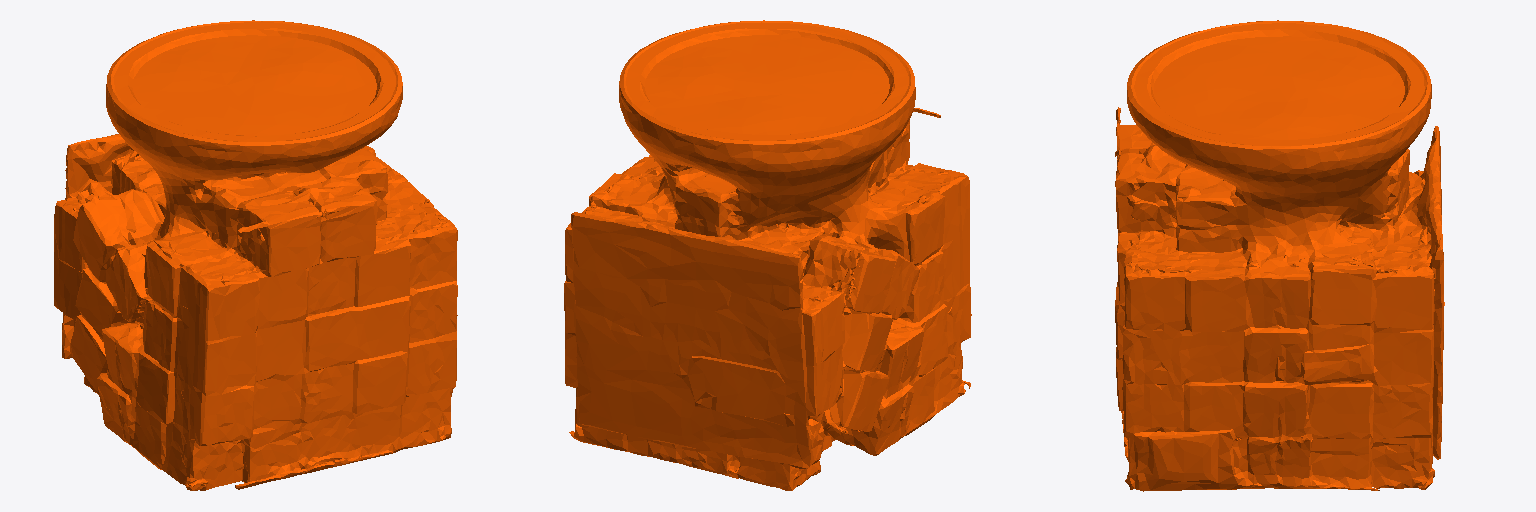
URDF robot description (070-a_colored_wood_blocks):
<?xml version="1.0" ?>
<robot name="070-a_colored_wood_blocks">
   <material name="obj_color">
      <color rgba="1.0 0.423529411765 0.0392156862745 1.0"/>
   </material>
   <link name="top">
      <inertial>
         <origin rpy="0.01209886757479972 0.01464237441496988 0.01520938627750228" xyz="0.006750575462909925 -0.001177174618853971 0.004188622996180038"/>
         <mass value="4.598820042393624"/>
         <inertia ixx="0.01515234332145368" ixy="-0.0001632659932999344" ixz="0.0001353667889838855" iyy="0.01469316169098673" iyz="1.841889491255326e-05" izz="0.01210512325483147"/>
      </inertial>
      <visual>
         <origin rpy="0 0 0" xyz="0 0 0"/>
         <geometry>
            <mesh filename="top_watertight_tiny.stl" scale="1 1 1"/>
         </geometry>
         <material name="obj_color"/>
      </visual>
      <collision>
         <origin rpy="0 0 0" xyz="0 0 0"/>
         <geometry>
            <mesh filename="top_watertight_tiny.obj" scale="1 1 1"/>
         </geometry>
      </collision>
   </link>
   <link name="bottom">
      <inertial>
         <origin rpy="1.633333333199431e-08 1.633333333199431e-08 1.633333333362855e-08" xyz="0.3464080000000008 0.3464080000000008 0.3464080000000008"/>
         <mass value="0.0009800000000000017"/>
         <inertia ixx="1.633333333253906e-08" ixy="5.447480642029219e-19" ixz="5.447480642029219e-19" iyy="1.633333333253906e-08" iyz="5.447480642029219e-19" izz="1.633333333253906e-08"/>
      </inertial>
      <visual>
         <origin rpy="0 0 0" xyz="0 0 0"/>
         <geometry>
            <mesh filename="bottom_watertight_tiny.stl" scale="1 1 1"/>
         </geometry>
         <material name="obj_color"/>
      </visual>
   </link>
   <link name="world"/>
   <joint name="world_to_base" type="fixed">
      <origin xyz="0 0 0"/>
      <axis xyz="0 0 0"/>
      <parent link="world"/>
      <child link="bottom"/>
   </joint>
   <joint name="rotation" type="revolute">
      <origin xyz="0 0 0"/>
      <axis xyz="0 0 -1"/>
      <parent link="bottom"/>
      <child link="top"/>
      <dynamics damping="1.0" friction="1.0"/>
      <limit effort="0.1" velocity="0.1" lower="0" upper="0.001"/>
   </joint>
</robot>

--- Render facts (derived) ---
The picture shows the robot from 3 angles, left to right: view 1: azimuth 30°, elevation 25°; view 2: azimuth 150°, elevation 25°; view 3: azimuth 270°, elevation 25°; orthographic projection.
Robot: 070-a_colored_wood_blocks — 3 links, 2 joints (1 revolute, 1 fixed); root link world; default pose: every joint at zero.
Visible links, largest first — view 1: top; view 2: top; view 3: top.
Link boxes in pixels (x1,y1,x2,y2): top: (54,20,457,490); top: (564,20,971,490); top: (1115,20,1444,491).
Bounding box of the posed robot: 0.1421 × 0.1412 × 0.1654 m (x, y, z).
Meshes: 2 distinct files referenced, 1 mesh visuals loaded (1 binary STL); not drawn: 1 (reference not matched to a file when rendering).
